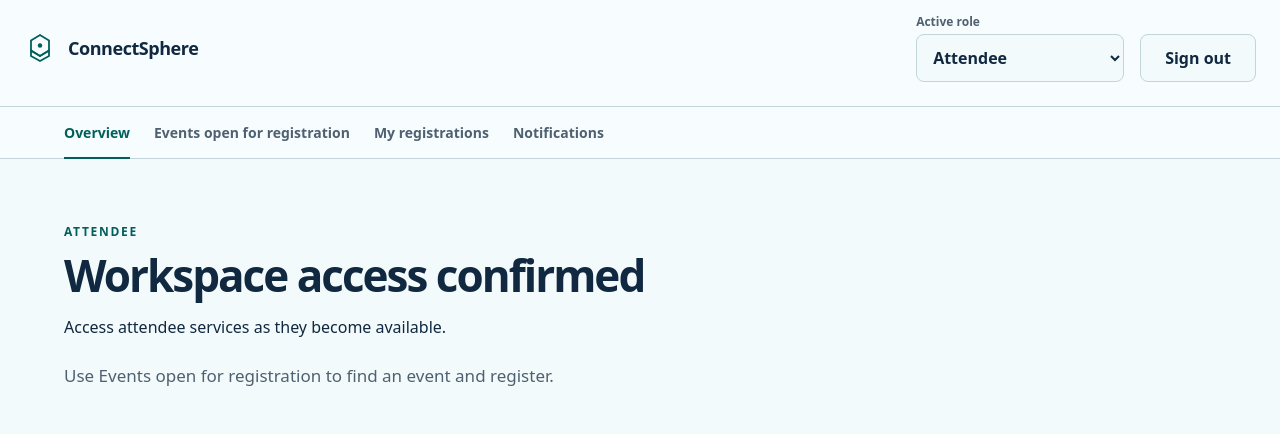
SPL-46 role context › refuses an unassigned role without changing the active role
Select "venue_staff" in the dropdown labelled "Active role" at [1020, 58], box x1=916 y1=34 x2=1124 y2=82
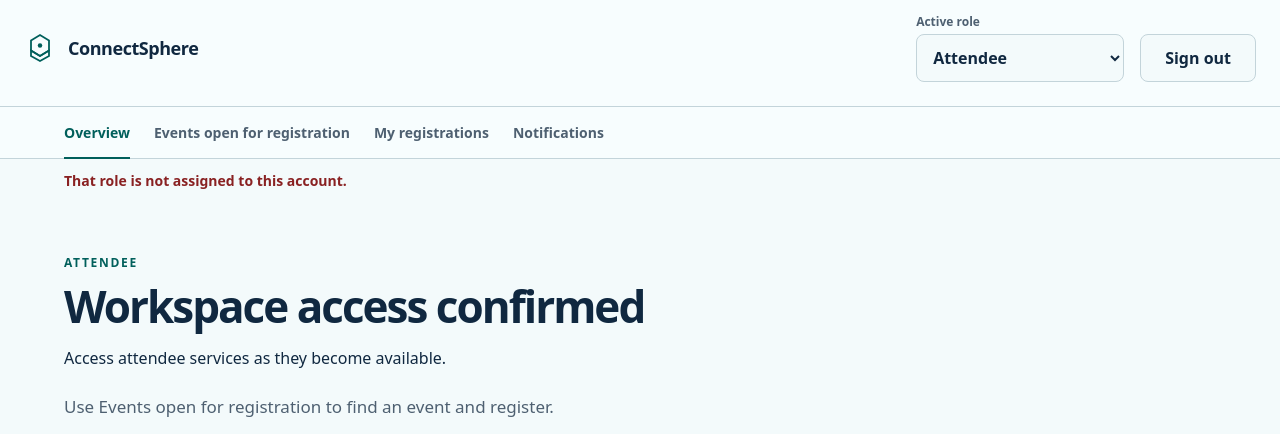
Check: the text "Attendee" is shown, box x1=64 y1=254 x2=138 y2=271
Check: the message shows "That role is not assigned", box x1=64 y1=171 x2=347 y2=190
